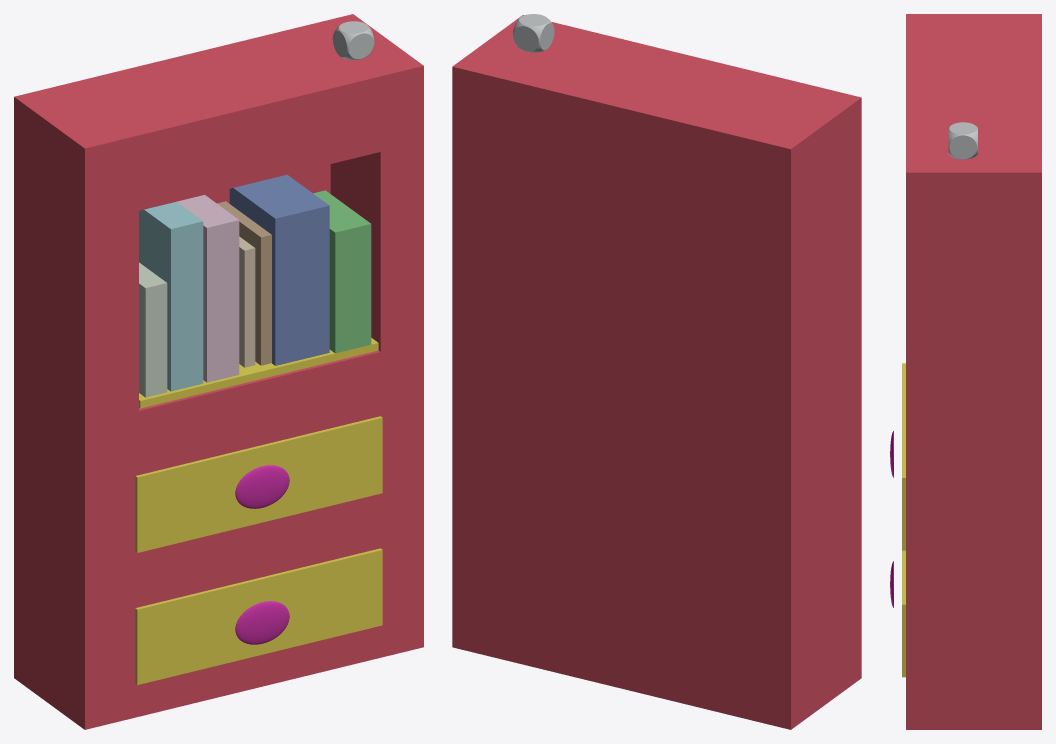
File: side table.glb
The picture shows the model from 3 angles, left to right: view 1: azimuth 30°, elevation 25°; view 2: azimuth 150°, elevation 25°; view 3: azimuth 270°, elevation 25°; orthographic projection. The views are drawn at different scales.
Visible parts, largest first — view 1: Mesh_Mesh_head_geo.001_lambert2SG.001; view 2: Mesh_Mesh_head_geo.001_lambert2SG.001; view 3: Mesh_Mesh_head_geo.001_lambert2SG.001.
Part boxes in pixels (left/top/right/bottom): Mesh_Mesh_head_geo.001_lambert2SG.001: left=14, top=14, right=423, bottom=729; Mesh_Mesh_head_geo.001_lambert2SG.001: left=452, top=14, right=861, bottom=729; Mesh_Mesh_head_geo.001_lambert2SG.001: left=890, top=14, right=1041, bottom=729.
Size of the model in its own units: 94 by 161 by 38.
